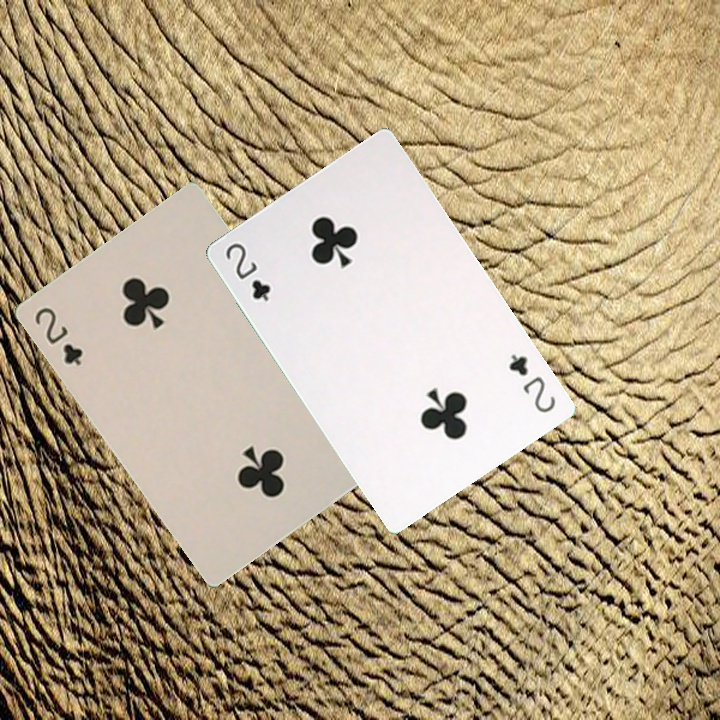2c: (504, 349, 559, 416), (30, 303, 86, 368), (221, 238, 274, 304)
